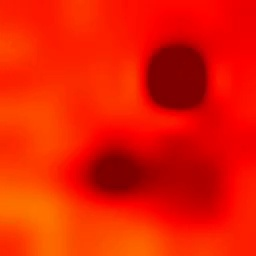person: (94, 148, 219, 212)
